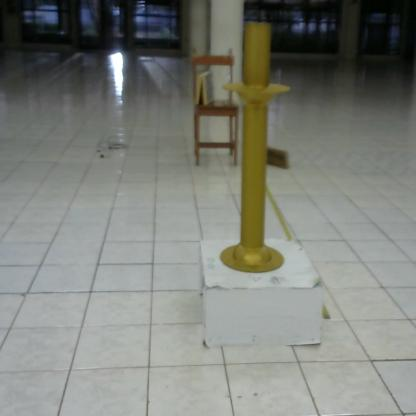pole: (217, 16, 294, 278)
